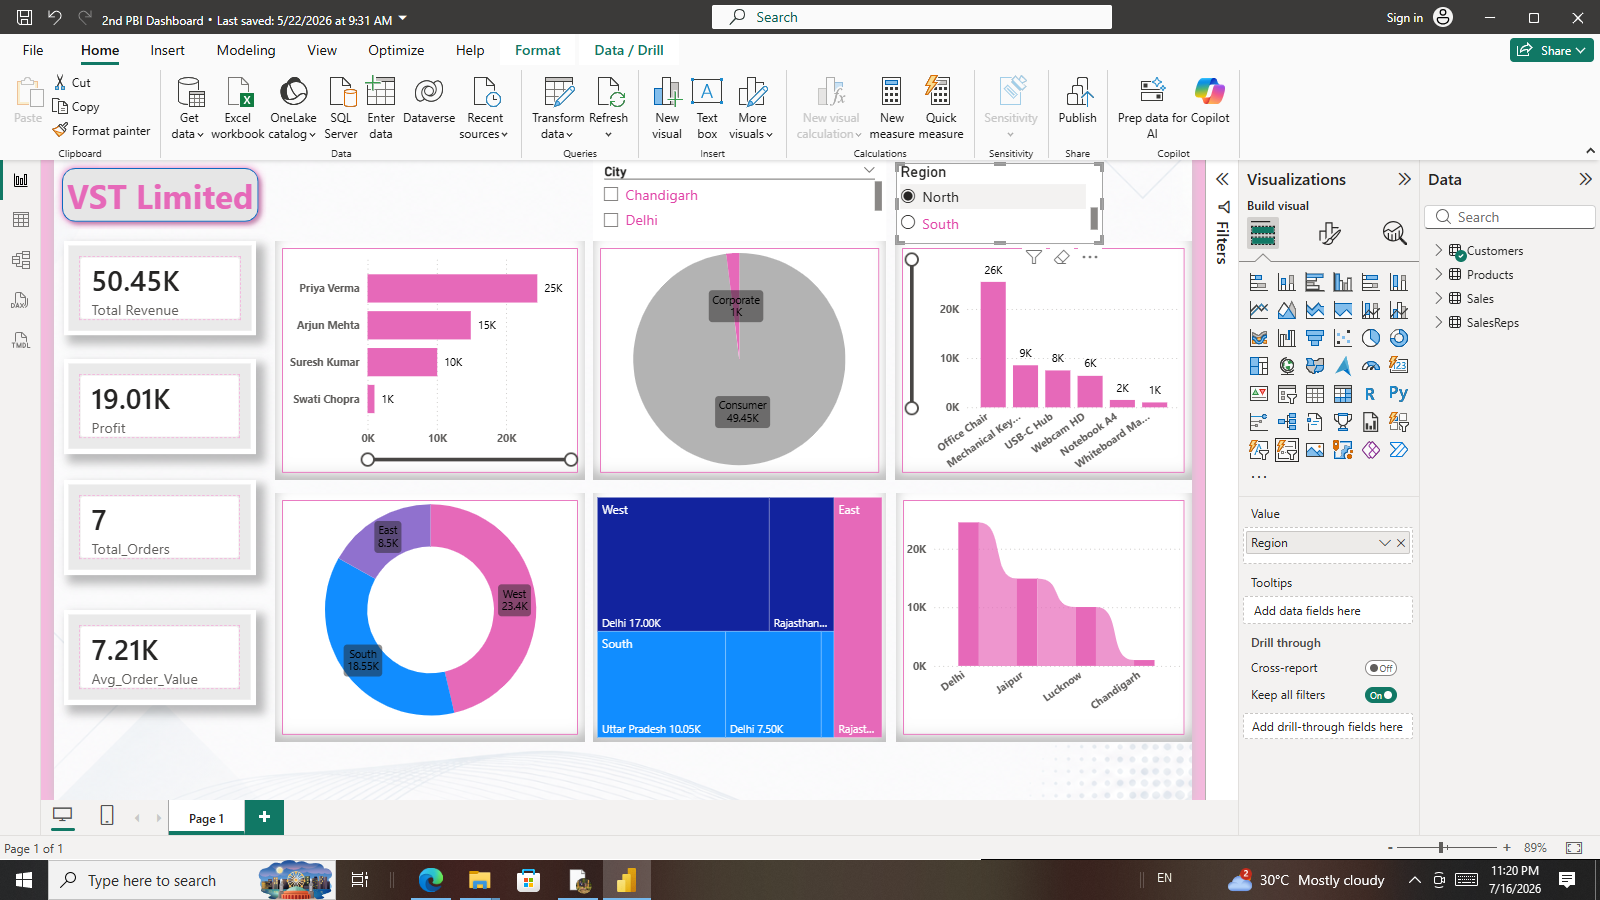

The page's visual inventory and layout, read from the dashboard file:
{"tool":"powerbi","page":{"name":"Page 1","canvas":[1280,720],"ordinal":0},"visuals":[{"type":"shape","box":[0,0,239,78.4],"z":0},{"type":"cardVisual","fields":{"Data":["Customers.Total Revenue"]},"box":[11.2,91.2,216.2,106.2],"z":1000},{"type":"cardVisual","fields":{"Data":["Customers.Profit"]},"box":[11.6,223.6,215.9,106.7],"z":2000},{"type":"cardVisual","fields":{"Data":["Customers.Total_Orders"]},"box":[11.6,359.8,215.9,106.7],"z":3000},{"type":"cardVisual","fields":{"Data":["Customers.Avg_Order_Value"]},"box":[11.6,506.3,215.9,106.7],"z":4000},{"type":"shape","box":[248.8,91.2,348.8,268.8],"z":5000},{"type":"shape","box":[606.2,91.2,330,268.8],"z":6000},{"type":"shape","box":[248.8,375,348.8,280],"z":7000},{"type":"shape","box":[606.2,375,330,280],"z":8000},{"type":"shape","box":[946.2,91.2,333.8,268.8],"z":9000},{"type":"shape","box":[947.5,375,332.5,280],"z":10000},{"type":"clusteredBarChart","fields":{"Category":["Customers.CustomerName"],"Y":["Sum(Sales.TotalAmount)"]},"box":[258.8,98.8,338.8,248.8],"z":11000},{"type":"ribbonChart","fields":{"Category":["Customers.City"],"Y":["Sum(Sales.TotalAmount)"]},"box":[953.8,390,318.8,248.8],"z":12000},{"type":"pieChart","fields":{"Category":["Customers.Segment"],"Y":["Sum(Sales.TotalAmount)"]},"box":[542.5,53.8,457.5,340],"z":13000},{"type":"donutChart","fields":{"Category":["SalesReps.Region"],"Y":["Sum(Sales.TotalAmount)"]},"box":[226.2,321.2,395,368.8],"z":14000},{"type":"treemap","fields":{"Group":["SalesReps.Region","Customers.City"],"Details":["Customers.State"],"Values":["Sum(Sales.TotalAmount)"]},"box":[606.2,375,330,280],"z":15000},{"type":"columnChart","fields":{"Category":["Products.ProductName"],"Y":["Sum(Sales.TotalAmount)"]},"box":[953.8,98.8,318.8,261.2],"z":16000},{"type":"listSlicer","fields":{"Values":["Customers.Region"]},"box":[947.2,3.4,232.9,91.1],"z":17000},{"type":"slicer","fields":{"Values":["Customers.City"]},"box":[606.4,0,329.6,91.1],"z":18000}]}

Visuals, with their boxes on the page's 1280x720 design canvas (x1, y1, x2, y2). These are canvas units, not pixel positions in the 1600x900 screenshot, which may show the page scaled, cropped or inside an application window:
shape: (0,0,239,78)
cardVisual - Customers.Total Revenue: (11,91,227,197)
cardVisual - Customers.Profit: (12,224,228,330)
cardVisual - Customers.Total_Orders: (12,360,228,466)
cardVisual - Customers.Avg_Order_Value: (12,506,228,613)
shape: (249,91,598,360)
shape: (606,91,936,360)
shape: (249,375,598,655)
shape: (606,375,936,655)
shape: (946,91,1280,360)
shape: (948,375,1280,655)
clusteredBarChart - Customers.CustomerName x Sum(Sales.TotalAmount): (259,99,598,348)
ribbonChart - Customers.City x Sum(Sales.TotalAmount): (954,390,1273,639)
pieChart - Customers.Segment x Sum(Sales.TotalAmount): (542,54,1000,394)
donutChart - SalesReps.Region x Sum(Sales.TotalAmount): (226,321,621,690)
treemap - SalesReps.Region x Customers.City: (606,375,936,655)
columnChart - Products.ProductName x Sum(Sales.TotalAmount): (954,99,1273,360)
listSlicer - Customers.Region: (947,3,1180,94)
slicer - Customers.City: (606,0,936,91)
